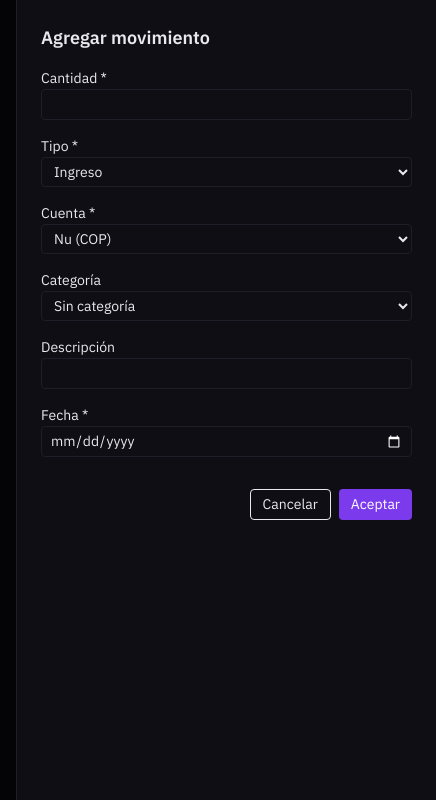
Test: AddMovementDrawer transfers › offers the destination field only for a transfer
Expected: the field labelled "Cuenta destino" is not shown
Select "Transferencia" in the dropdown labelled "Tipo *" at (226, 172), box x1=41 y1=157 x2=412 y2=187
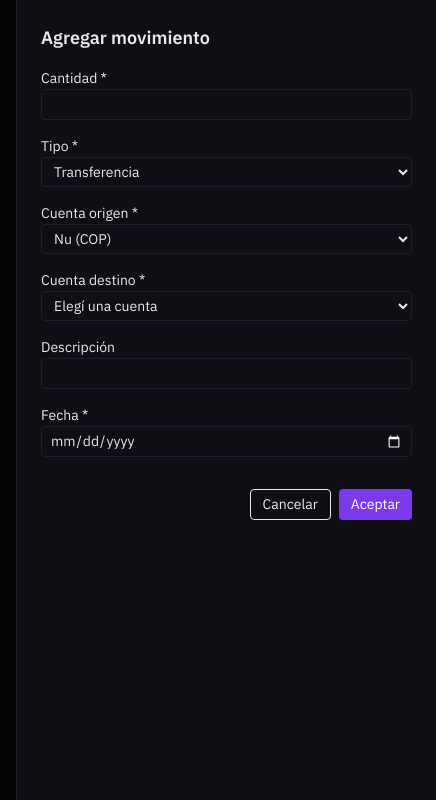
Now the dropdown labelled "Cuenta destino *" is shown, box x1=41 y1=291 x2=412 y2=321
